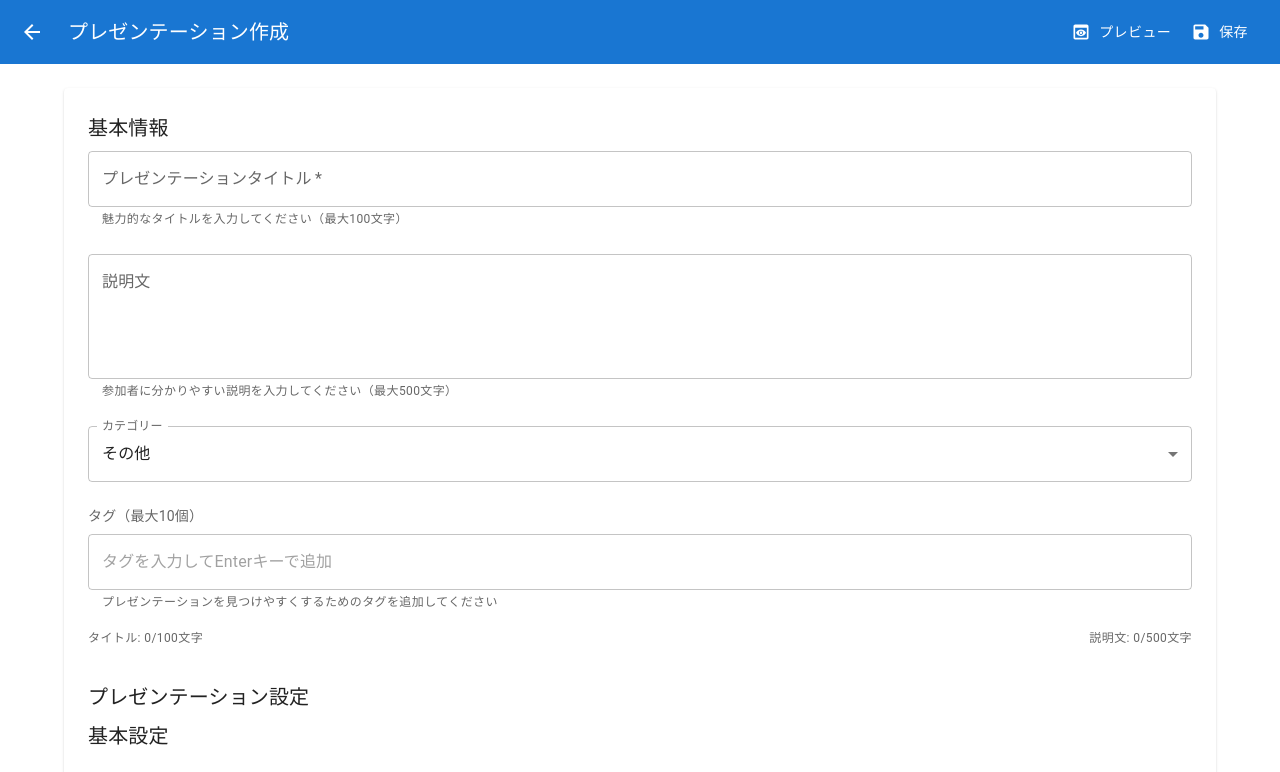
it: PresentationFormPage › バリデーション › タイトル入力時にバリデーションエラーが解消される
This screenshot has width=1280, height=772.
# 保存ボタンクリック（エラー発生）
Click the button "保存".
click(1222, 32)  # box [1187,14,1256,50]
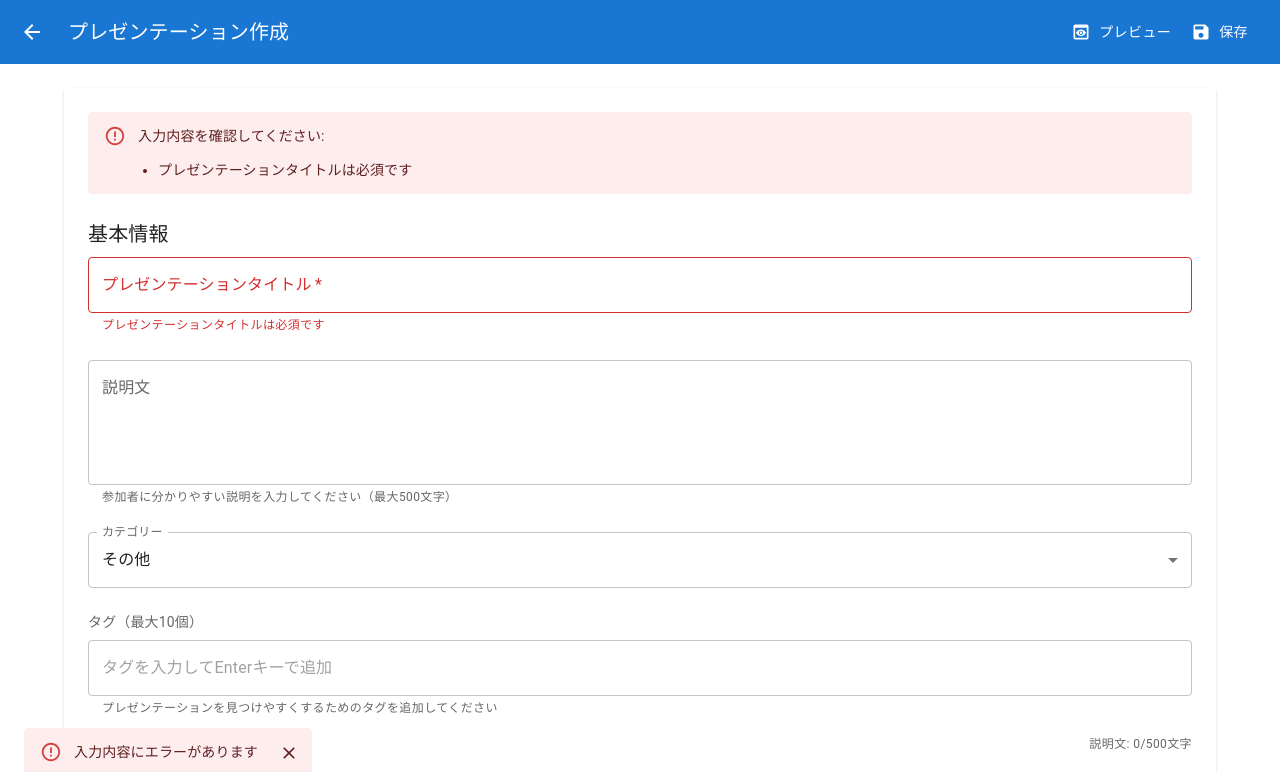
Check: the list item "プレゼンテーションタイトルは必須です" is shown, box [158,160,412,180]
Type "テストプレゼンテーション" into the field labelled "プレゼンテーションタイトル *".
click(640, 285); type("テストプレゼンテーション")  # box [88,257,1192,313]
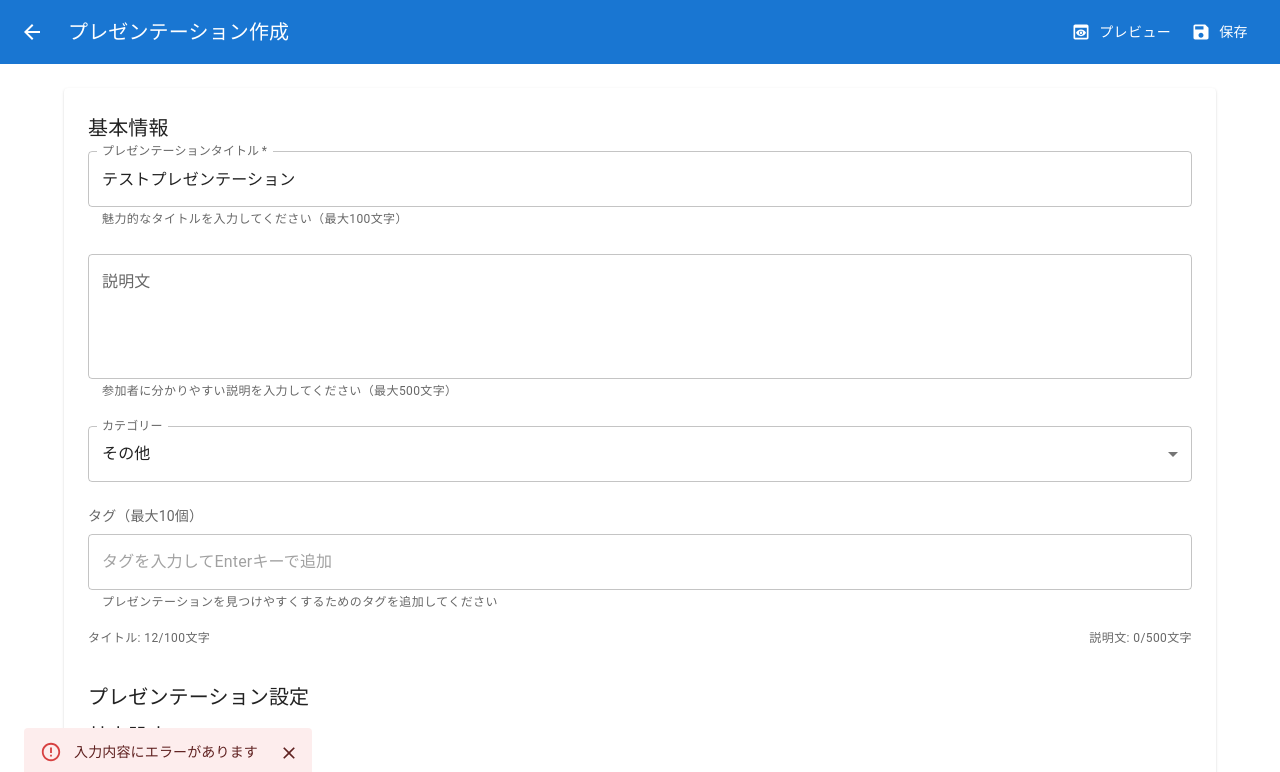
Check: the list item "プレゼンテーションタイトルは必須です" is gone
